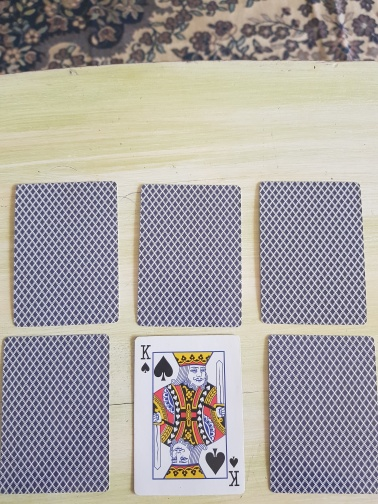king: (133, 333, 247, 497)
